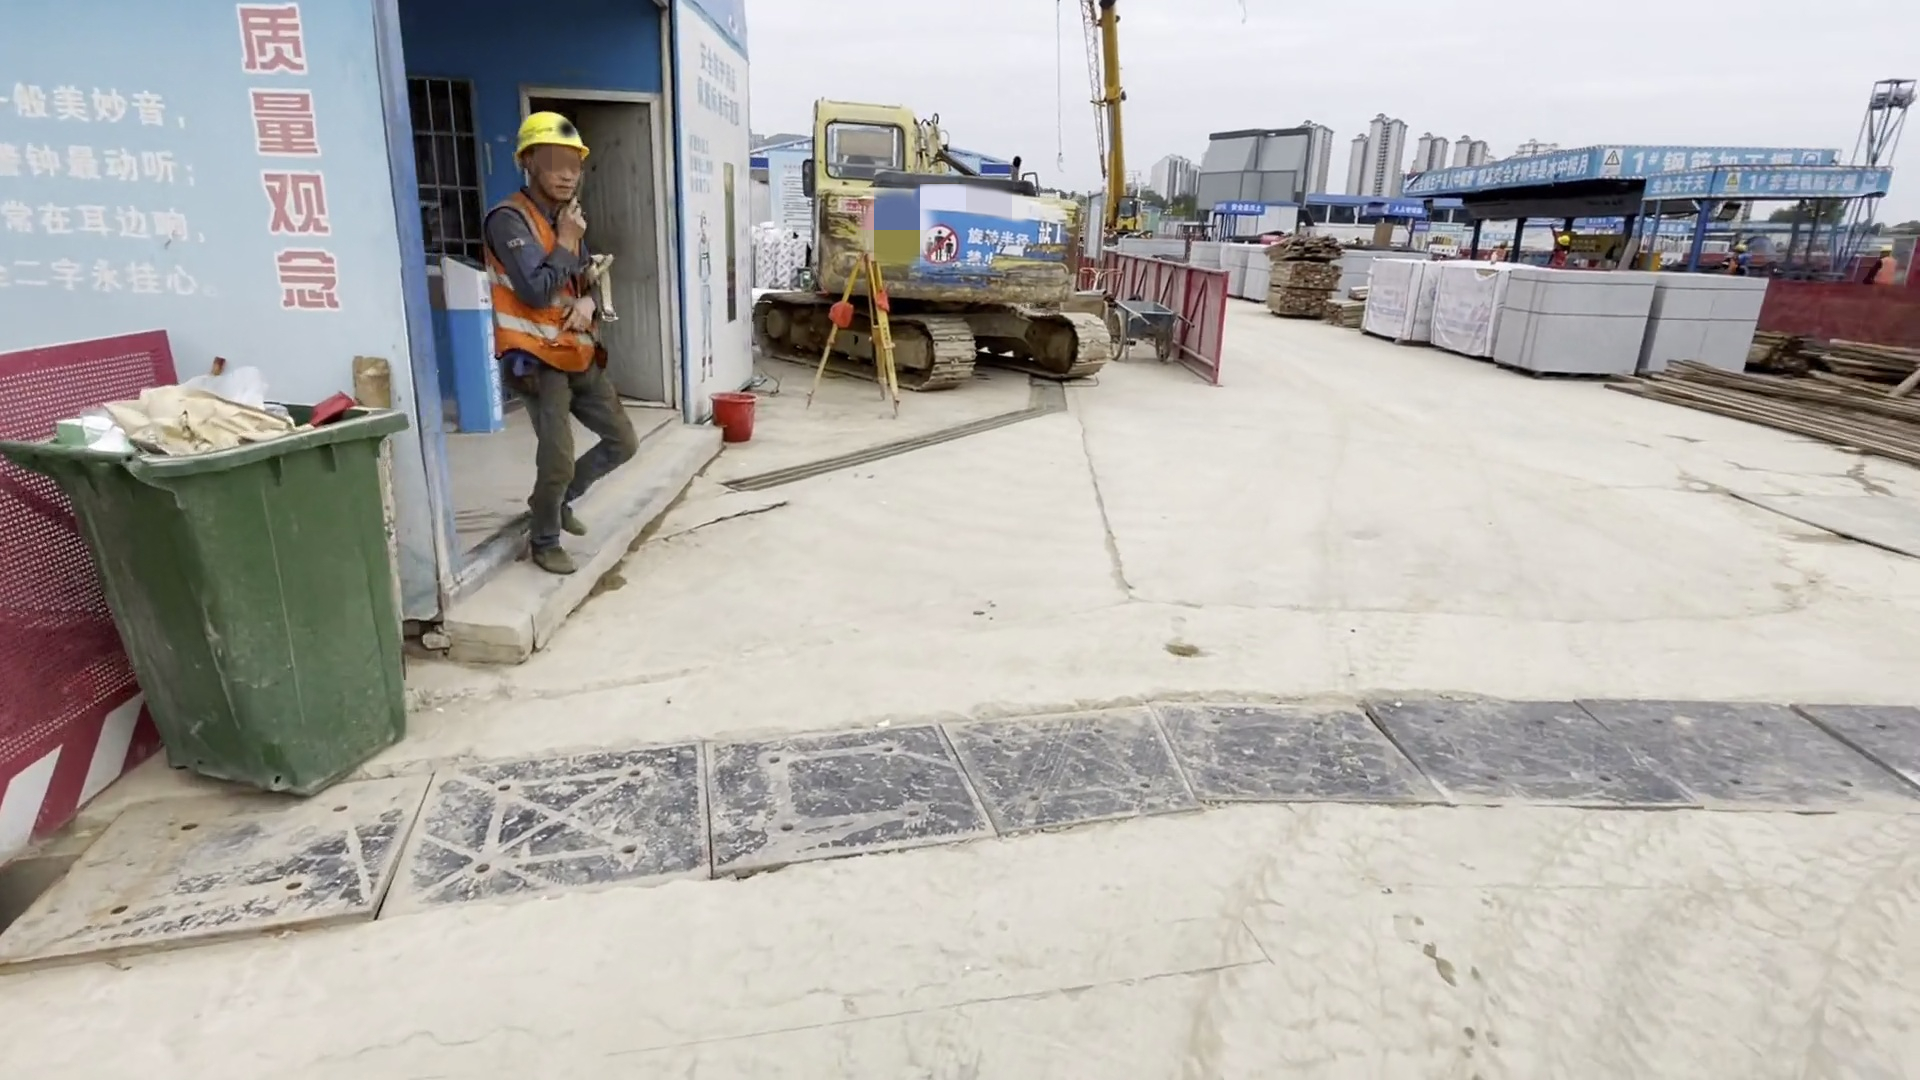brick: (1515, 262, 1760, 383)
helmet: (515, 101, 591, 172), (1554, 232, 1570, 245)
person: (471, 94, 649, 592), (1552, 229, 1570, 270)
slogan: (1417, 155, 1880, 196)
vest: (491, 199, 599, 383)
wood: (1269, 235, 1341, 320)
